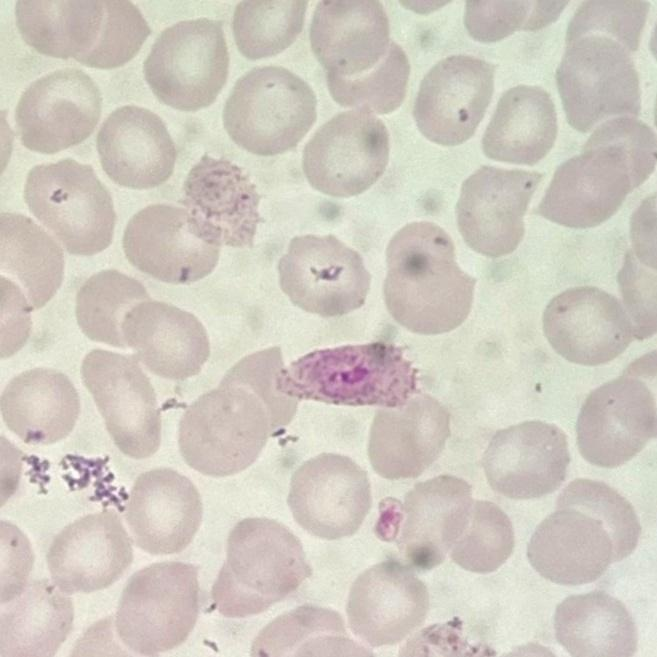Infected: (277, 342, 420, 407), (182, 155, 262, 243)
Uninfected: (528, 485, 637, 585), (380, 223, 476, 332), (177, 380, 278, 477), (212, 517, 309, 617), (80, 347, 164, 460), (537, 143, 642, 231), (22, 158, 116, 256), (555, 35, 644, 132), (222, 67, 316, 156), (114, 560, 203, 654), (300, 107, 390, 198), (121, 202, 219, 285), (409, 55, 498, 145), (145, 19, 231, 111), (456, 164, 540, 257), (276, 232, 367, 316), (391, 474, 475, 565), (574, 374, 654, 468), (285, 454, 371, 540), (16, 69, 103, 154), (119, 299, 209, 381), (541, 286, 634, 365), (217, 347, 296, 440), (365, 394, 449, 481), (47, 512, 133, 595), (344, 562, 428, 646), (73, 269, 155, 354), (121, 468, 202, 554), (480, 420, 568, 498), (95, 105, 177, 187), (323, 43, 407, 120), (0, 366, 79, 447), (308, 1, 391, 77), (482, 85, 557, 165), (577, 112, 656, 186), (442, 498, 514, 573), (553, 592, 634, 656), (1, 582, 69, 655), (564, 1, 648, 56)
